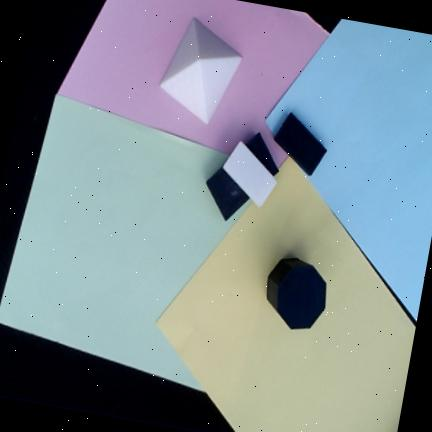Paralelepipedo: (205, 132, 279, 222), (222, 141, 277, 208), (273, 112, 327, 176)
Piramide: (158, 16, 243, 126)
Prisma_hexagonal: (266, 258, 327, 330)
